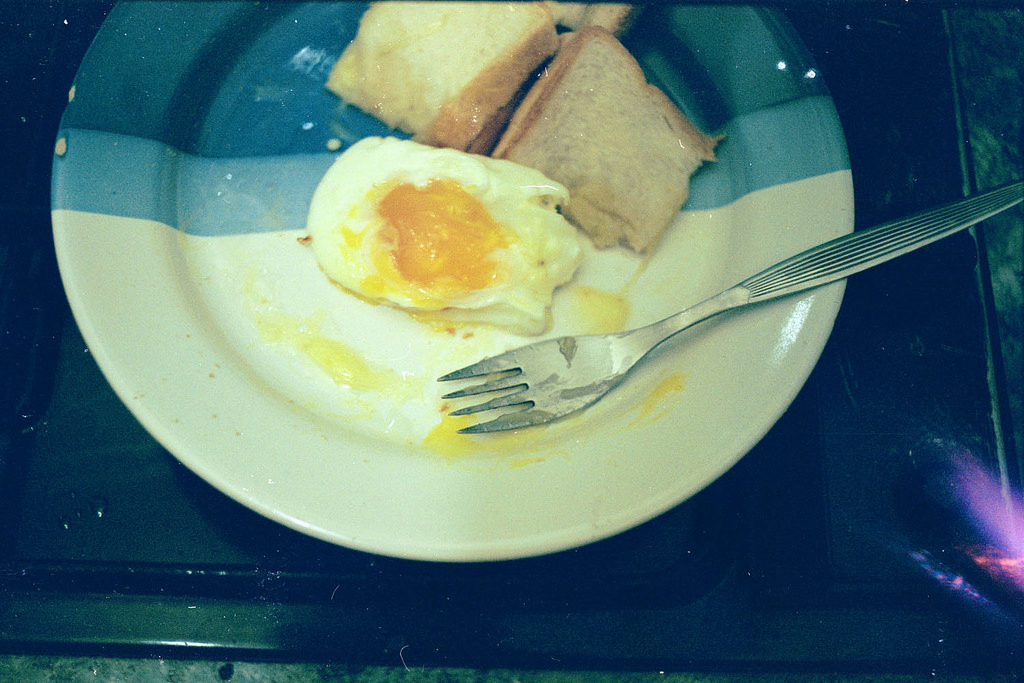fried egg: (299, 118, 586, 323)
